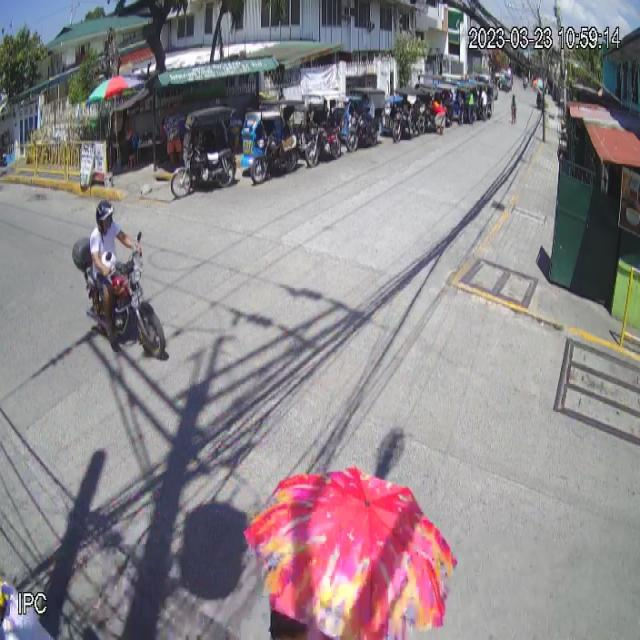Motorcycle: (72, 231, 168, 359)
